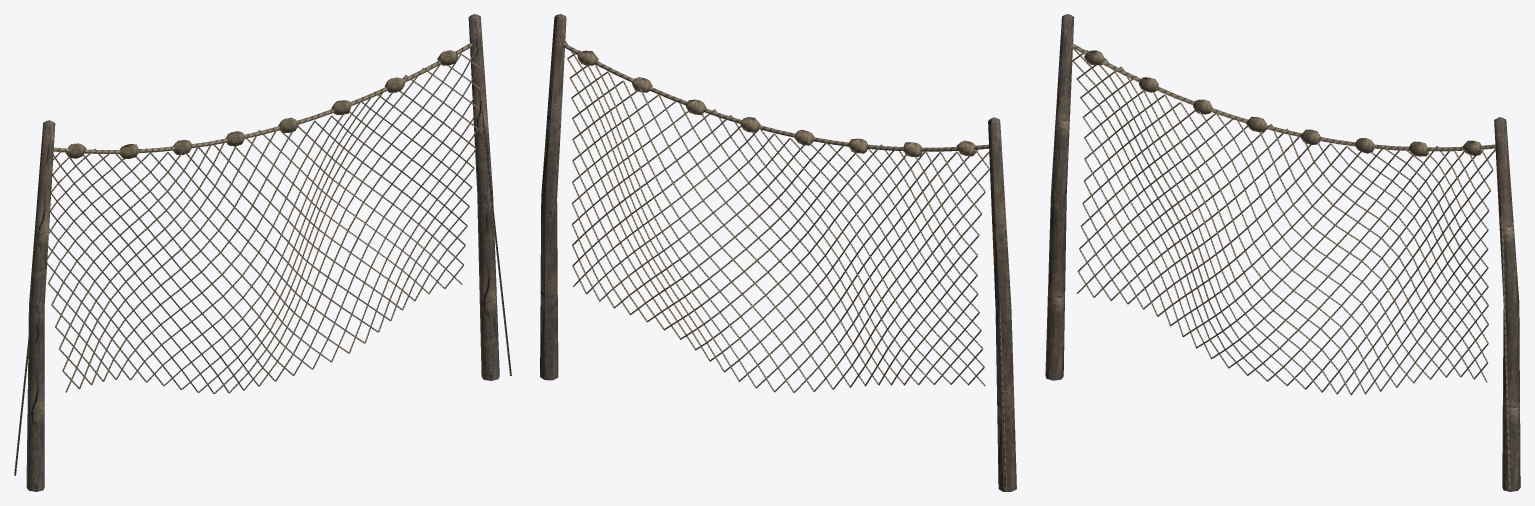
Rendered from kit_net_frame_p.glb.
The picture shows the model from 3 angles, left to right: view 1: azimuth 30°, elevation 25°; view 2: azimuth 150°, elevation 25°; view 3: azimuth 330°, elevation 25°; orthographic projection.
Visible parts, largest first — view 1: kit_net_frame_p; view 2: kit_net_frame_p; view 3: kit_net_frame_p.
Part boxes in pixels (x1,y1,x2,y2): kit_net_frame_p: [14, 14, 511, 491]; kit_net_frame_p: [540, 14, 1016, 491]; kit_net_frame_p: [1045, 14, 1520, 491].
Bounding box in the file's own units: 3.51 × 2.58 × 0.4095.
1 material, 1 textured.
